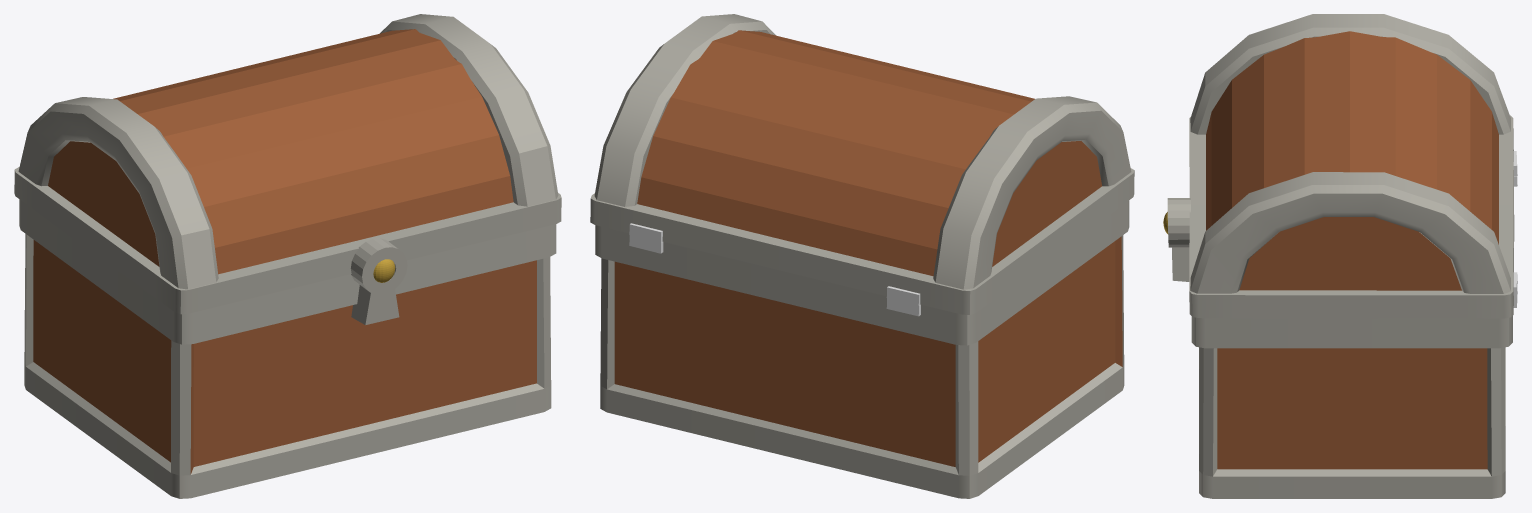
File: Chest Animated.fbx
The picture shows the model from 3 angles, left to right: view 1: azimuth 30°, elevation 25°; view 2: azimuth 150°, elevation 25°; view 3: azimuth 270°, elevation 25°; orthographic projection. The views are drawn at different scales.
Visible parts, largest first — view 1: Top_Lid, Bottom_Chest; view 2: Top_Lid, Bottom_Chest; view 3: Top_Lid, Bottom_Chest.
Part boxes in pixels (x1=…): Top_Lid: x1=14, y1=14, x2=561, y2=314; Bottom_Chest: x1=19, y1=199, x2=556, y2=498; Top_Lid: x1=590, y1=14, x2=1134, y2=314; Bottom_Chest: x1=595, y1=200, x2=1129, y2=498; Top_Lid: x1=1163, y1=14, x2=1517, y2=318; Bottom_Chest: x1=1172, y1=176, x2=1517, y2=498.
Bounding box in the file's own units: 9.42 × 7.53 × 7.78.
